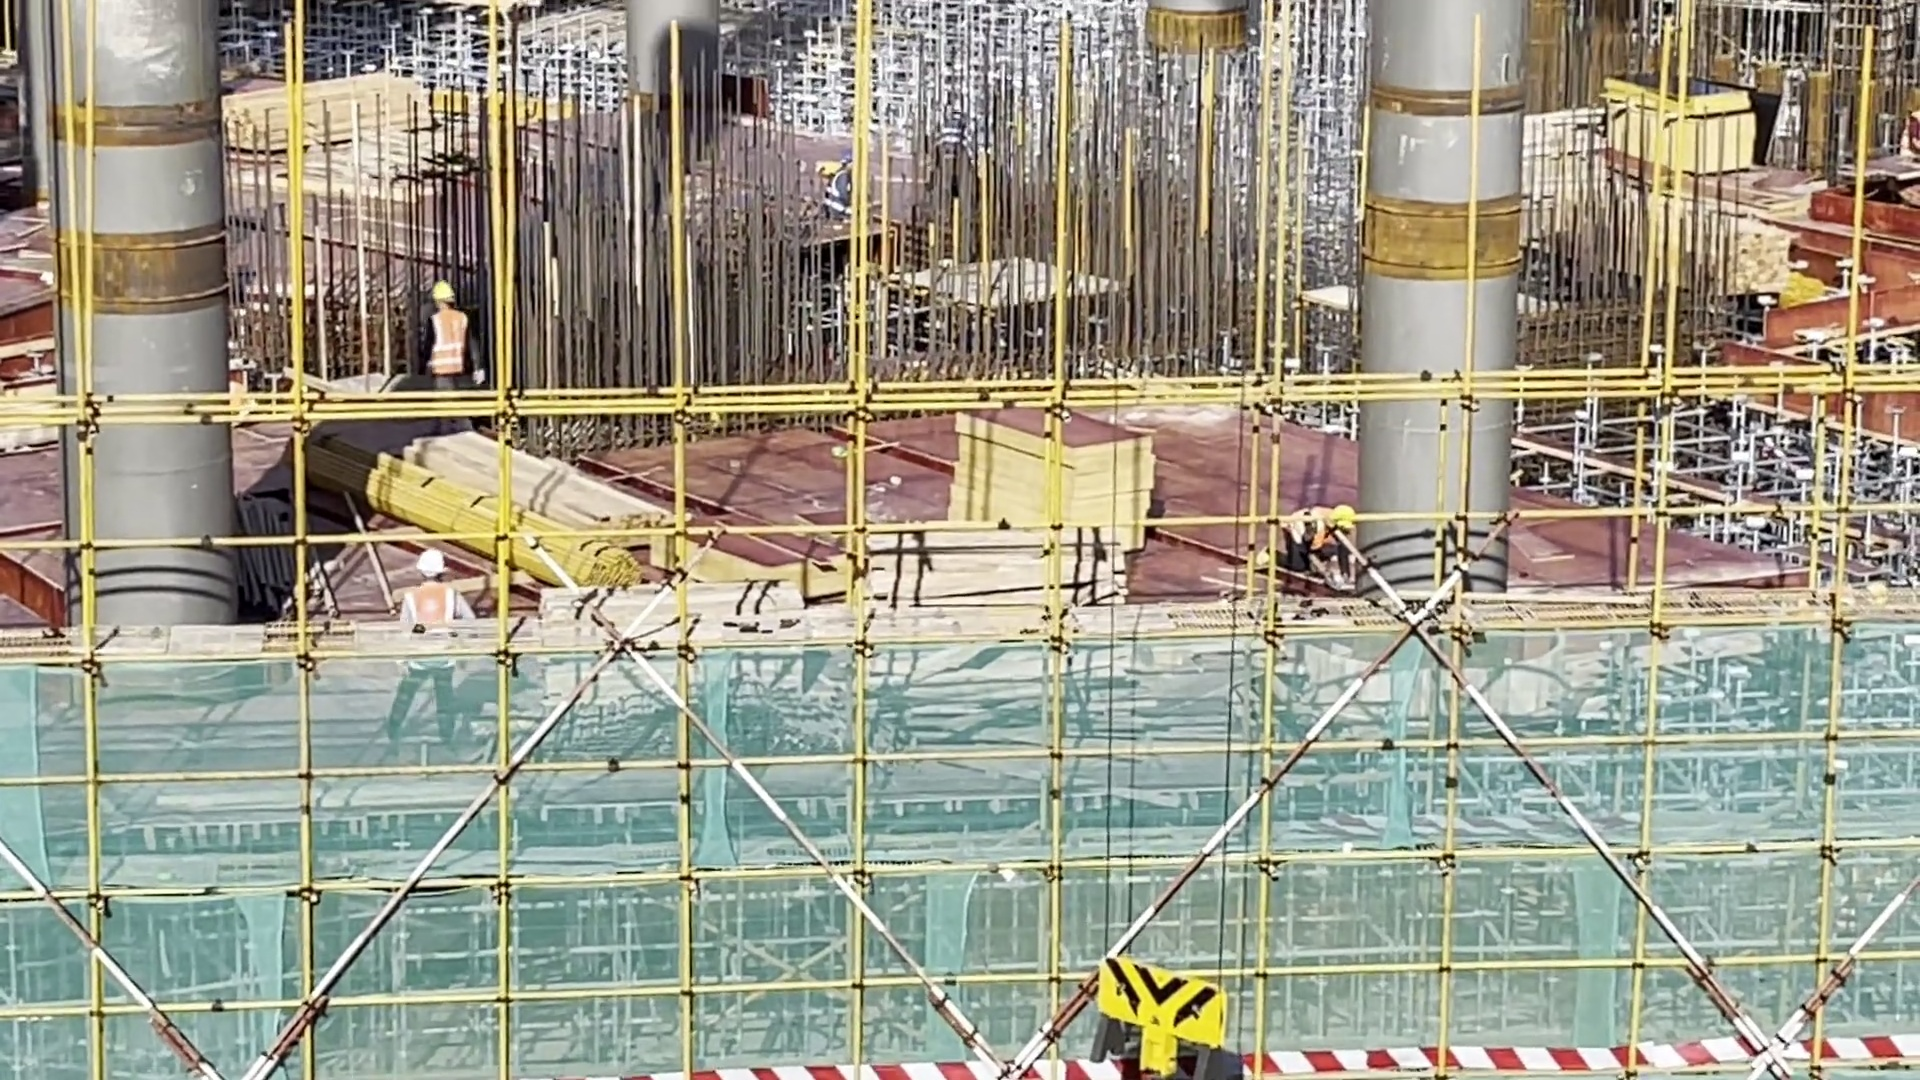board: (939, 403, 1154, 541), (1600, 66, 1761, 181)
helmet: (428, 282, 458, 303)
hook: (1104, 961, 1229, 1073)
person: (408, 270, 497, 406)
vest: (426, 310, 469, 371)
wood: (389, 424, 681, 588), (1725, 230, 1794, 297)
